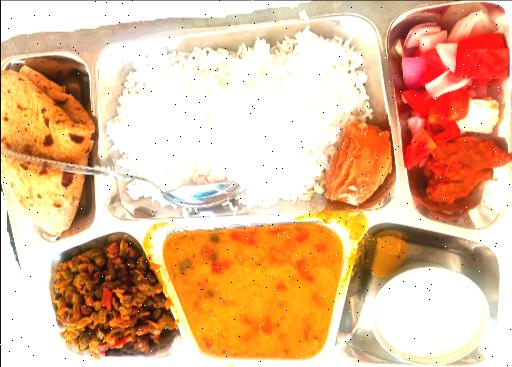Curd: (360, 264, 498, 367)
Dal: (167, 230, 344, 360)
Pickle: (426, 129, 507, 204)
Rice: (116, 31, 368, 214)
Roti: (0, 60, 96, 236)
Salad: (402, 5, 510, 127)
Sweet: (320, 123, 395, 201)
Vegetable: (54, 238, 166, 354)
